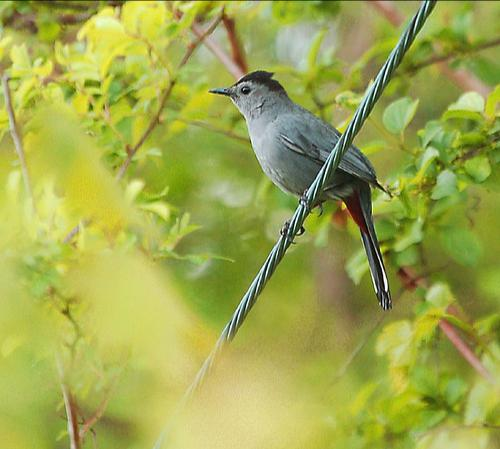bird: (196, 62, 417, 316)
